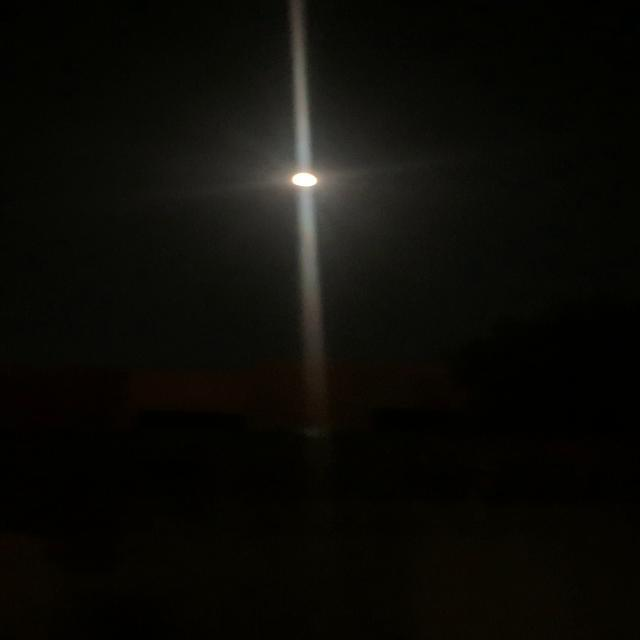moon: (271, 158, 335, 192)
